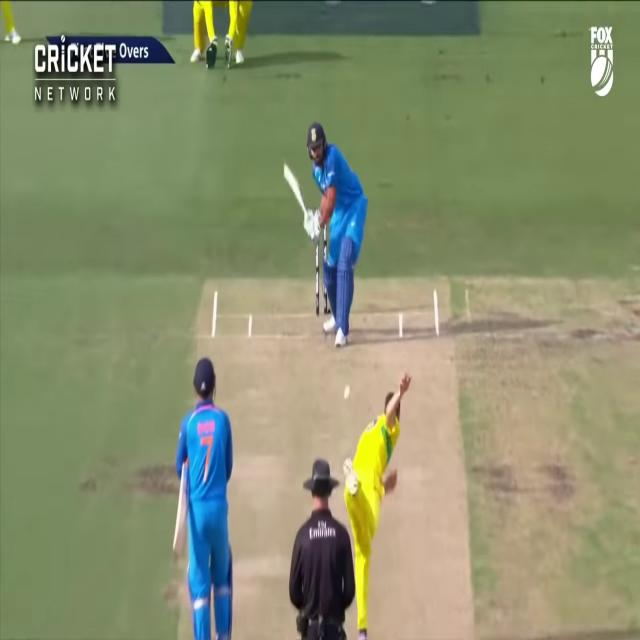ball: (343, 383, 351, 402)
stump: (316, 223, 329, 315)
